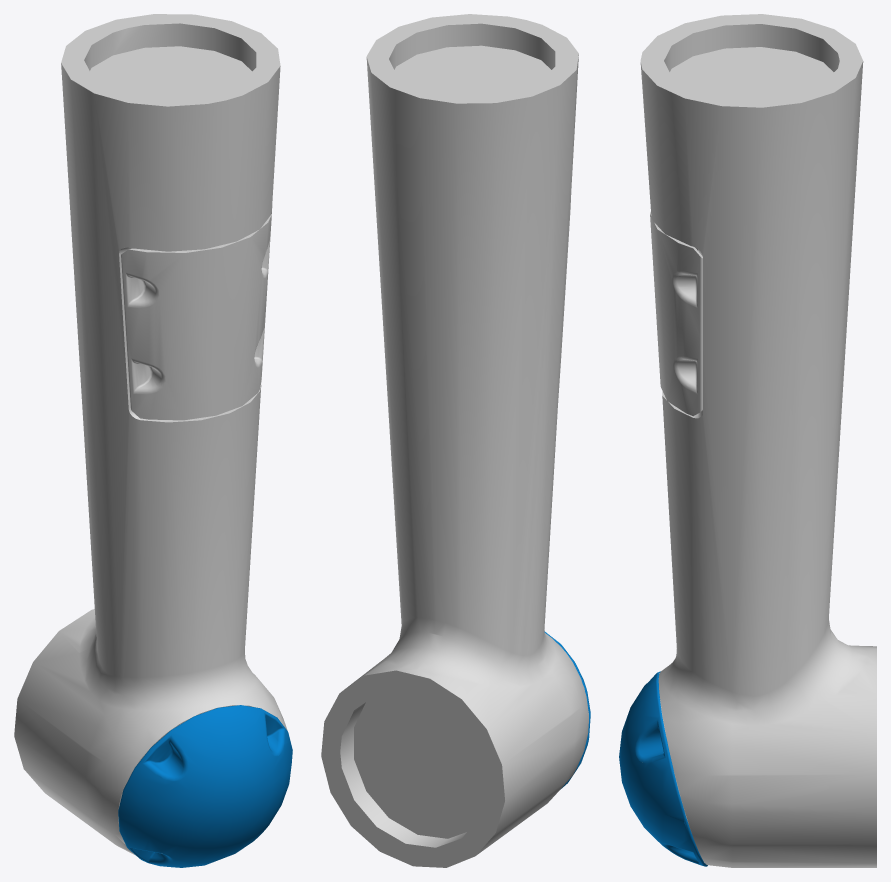
3 views of the same model, side by side, from view 1: azimuth 30°, elevation 25°; view 2: azimuth 150°, elevation 25°; view 3: azimuth 270°, elevation 25° (orthographic). The views are drawn at different scales.
Parts seen in each view (by area): view 1: Link 4 R; view 2: Link 4 R; view 3: Link 4 R.
Part boxes in pixels (x1,y1,x2,y2): Link 4 R: (14, 14, 292, 867); Link 4 R: (321, 14, 590, 867); Link 4 R: (619, 14, 876, 867).
Size of the model in its own units: 0.114 by 0.132 by 0.45.
